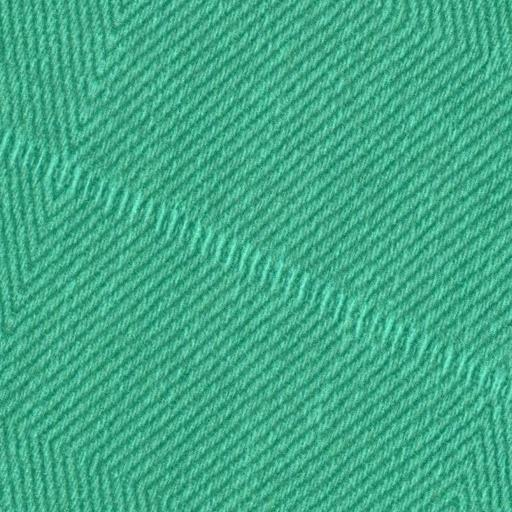slub: (0, 120, 511, 403)
